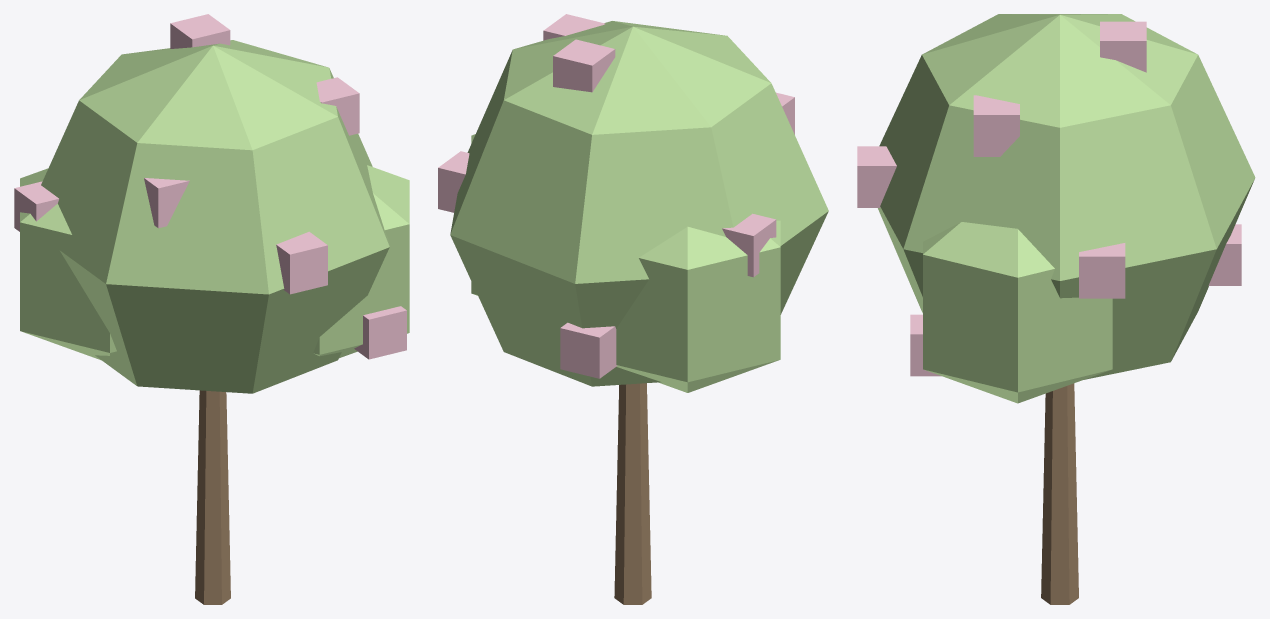
File: tree_ornamental_l.glb
The picture shows the model from 3 angles, left to right: view 1: azimuth 30°, elevation 25°; view 2: azimuth 150°, elevation 25°; view 3: azimuth 270°, elevation 25°; orthographic projection. The views are drawn at different scales.
Parts seen in each view (by area): view 1: leaves, blossom, trunk; view 2: leaves, blossom, trunk; view 3: leaves, blossom, trunk.
Boxes of the visible parts, x1,y1,x2,y2 form: leaves: [20, 40, 409, 393]; blossom: [14, 14, 406, 359]; trunk: [195, 390, 230, 604]; leaves: [450, 21, 828, 392]; blossom: [438, 14, 794, 378]; trunk: [614, 383, 651, 604]; leaves: [878, 14, 1255, 403]; blossom: [857, 21, 1241, 376]; trunk: [1041, 383, 1078, 604].
Size of the model in its own units: 2.29 by 3.51 by 2.17.
